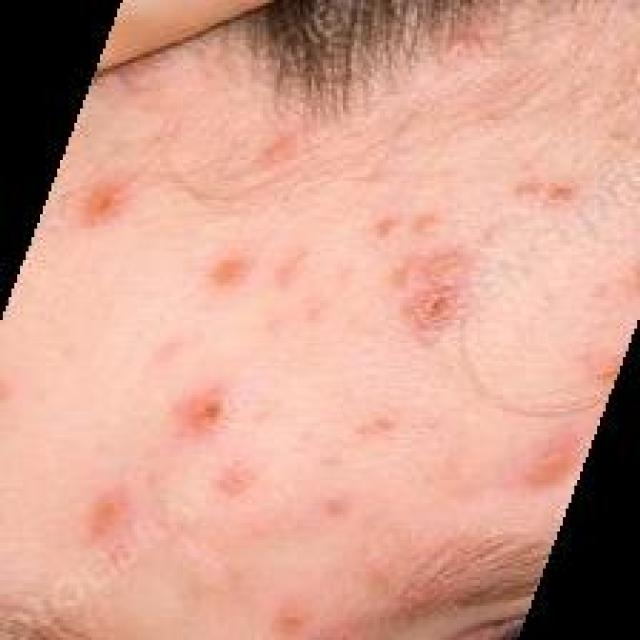others: (74, 33, 640, 640)
